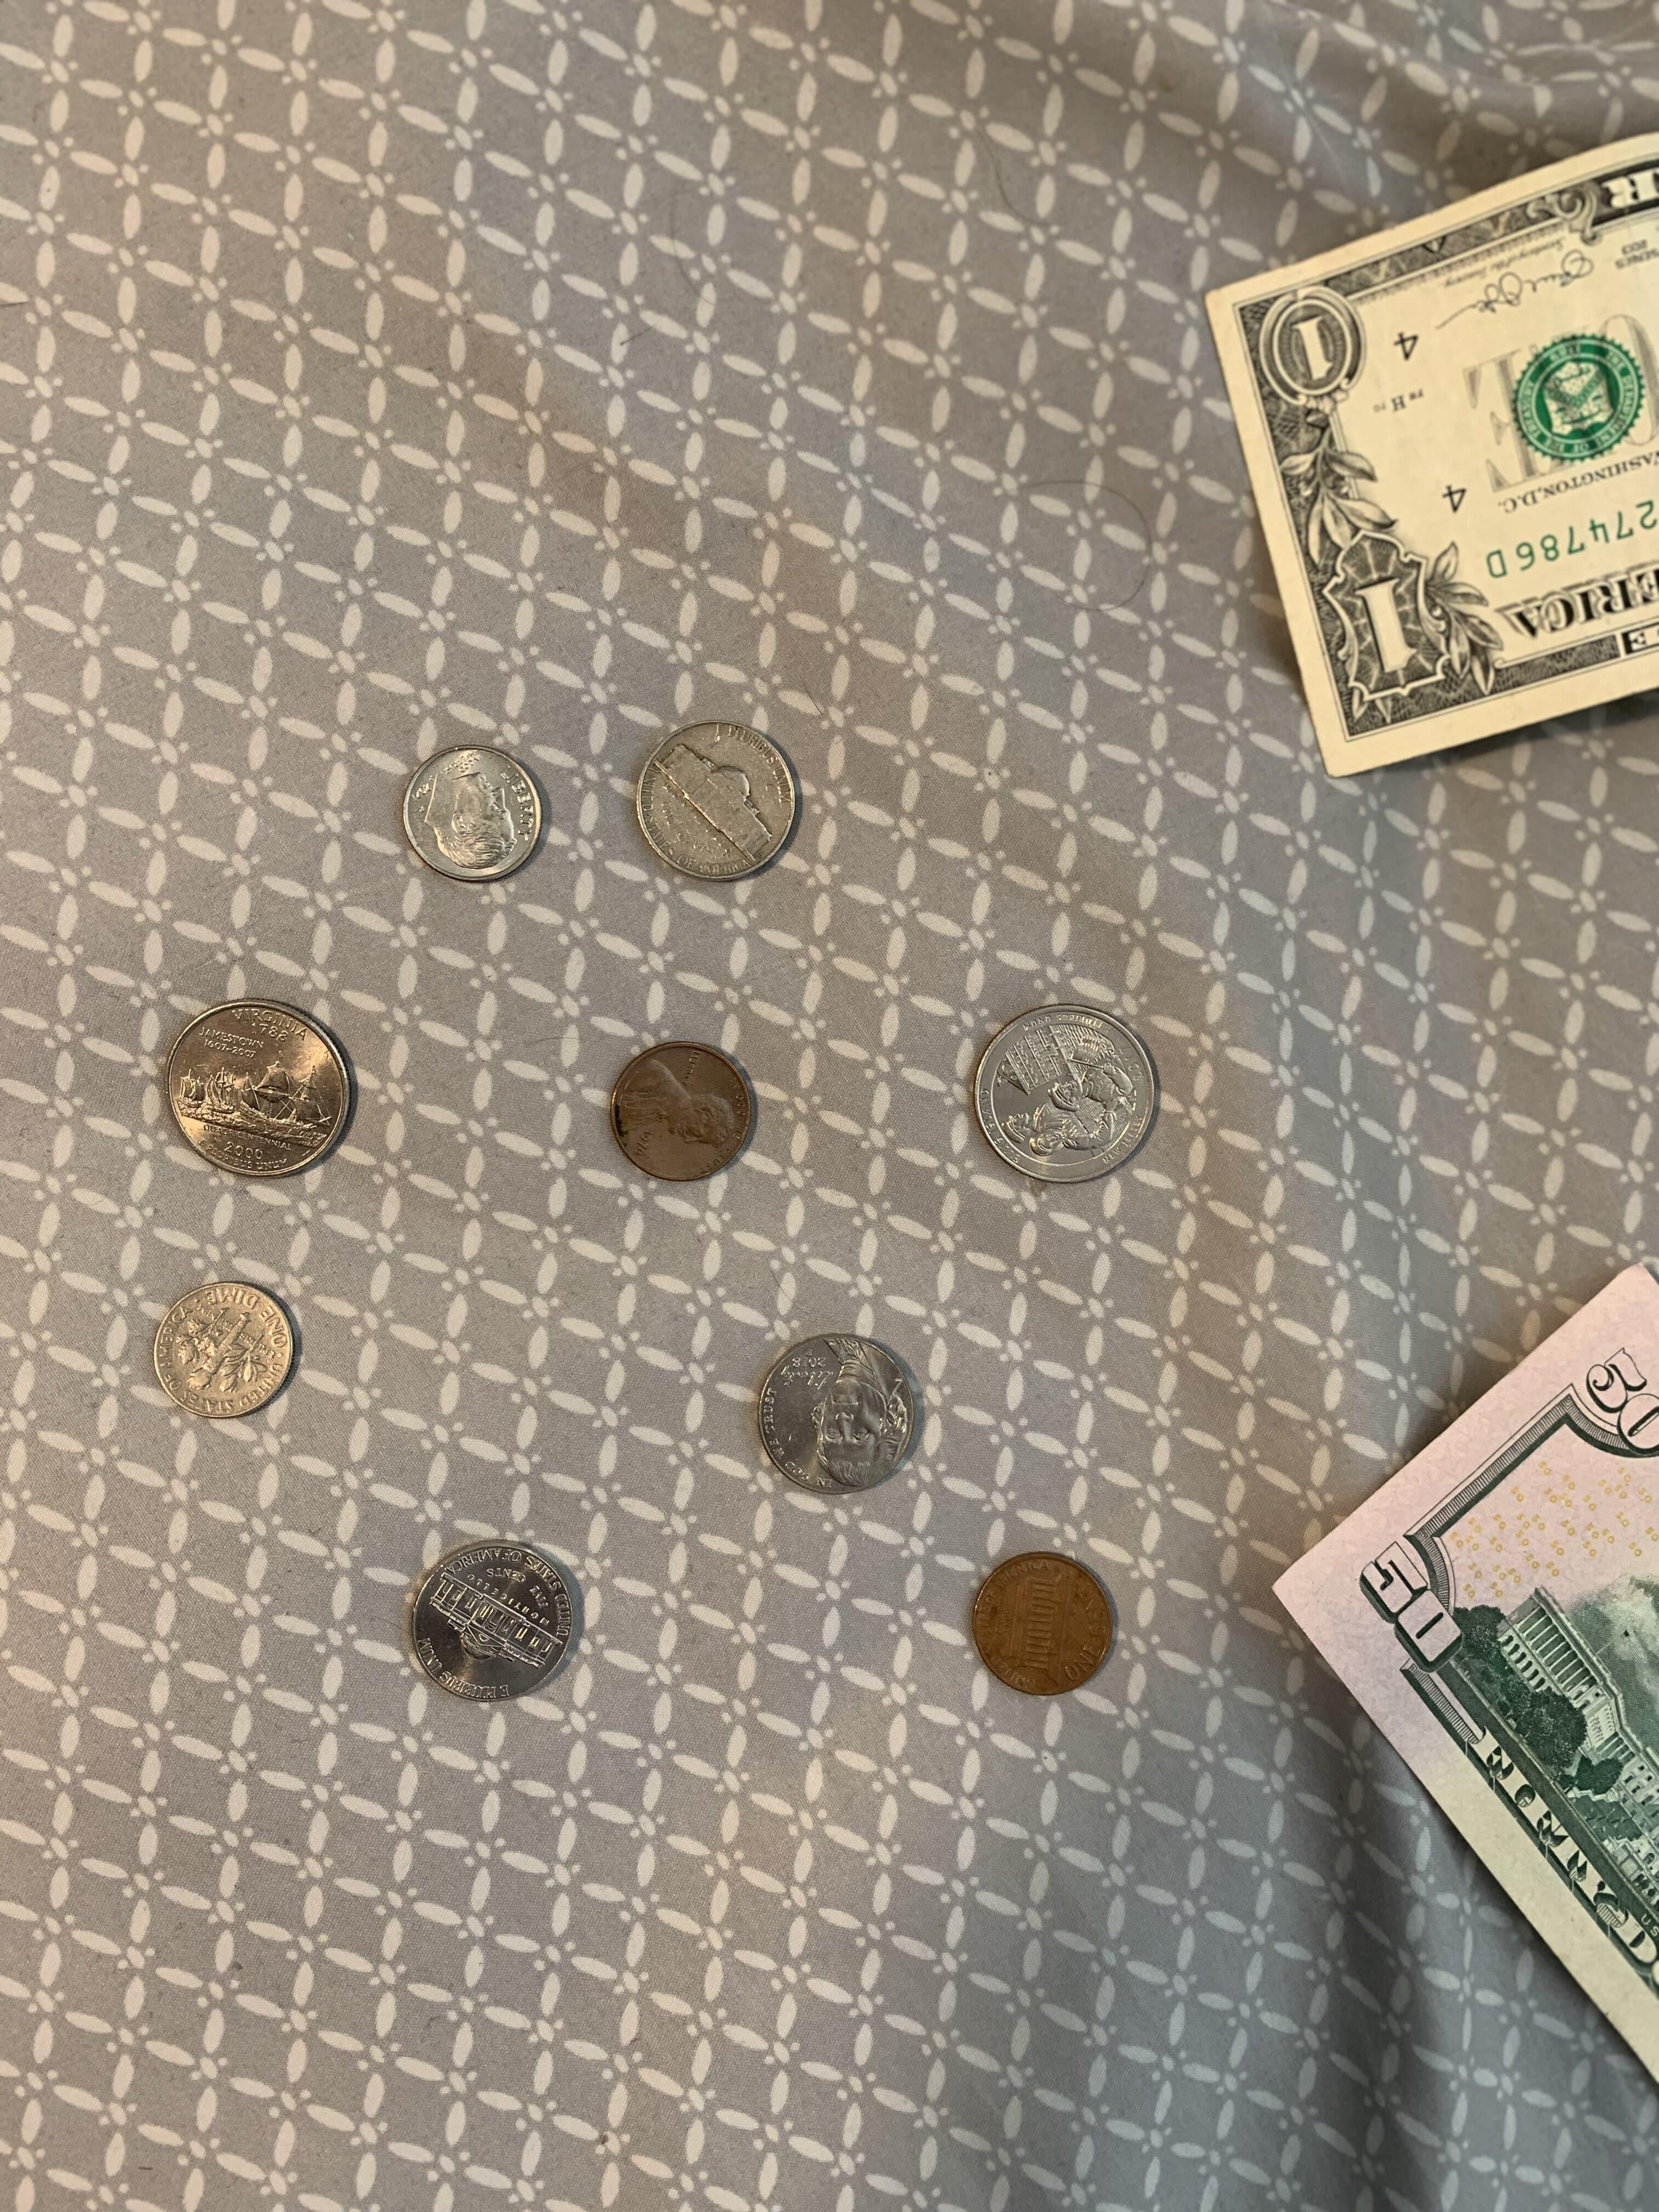Dime: (129, 1259, 322, 1447), (380, 732, 572, 913)
FiftyBill: (1223, 1247, 1657, 1900)
Nickel: (603, 704, 842, 914), (737, 1324, 945, 1531), (387, 1526, 591, 1726)
OneBill: (1152, 366, 1657, 826)
Penny: (577, 1029, 788, 1219), (948, 1529, 1141, 1723)
Quarter: (132, 991, 389, 1202), (955, 991, 1188, 1214)
